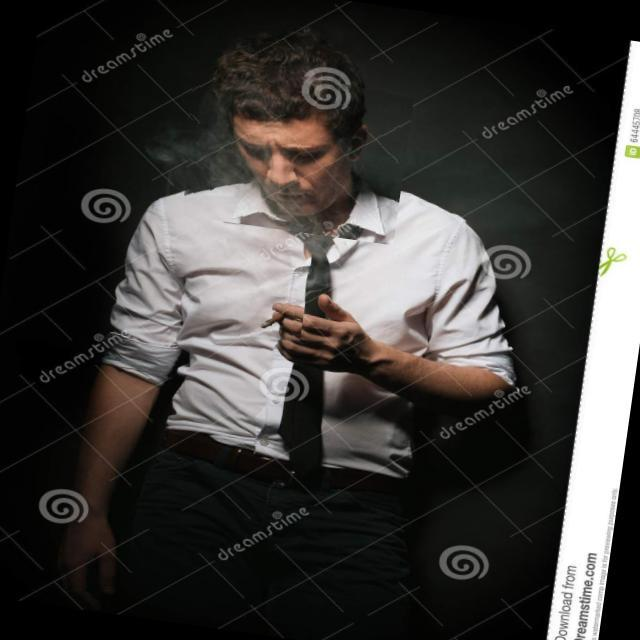cigarette: (232, 292, 306, 348)
